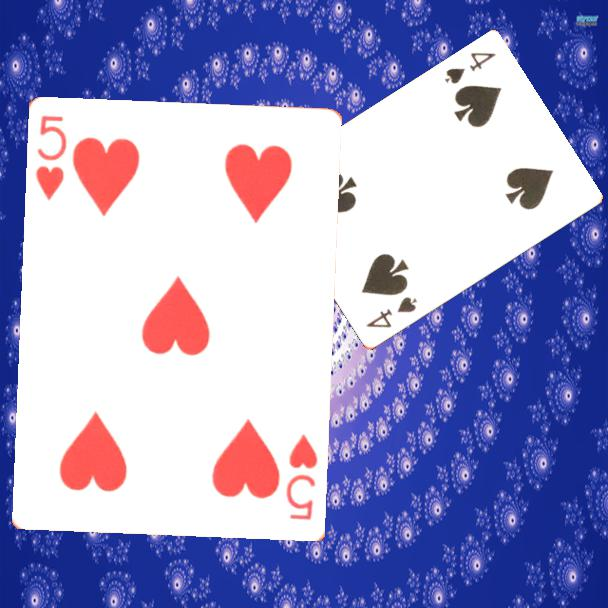h05: (283, 431, 321, 524), (32, 112, 70, 204)
s04: (362, 293, 420, 332), (441, 49, 499, 88)
